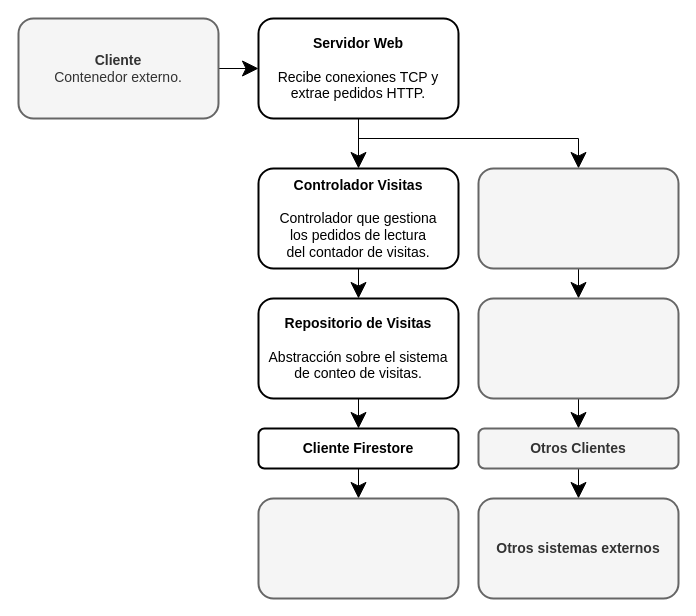
Image size: 696x616. Some labels were removed from this diagram. The shapes that lost their labels are listed below. From the top down, each one's centre as x and y in pixels, then its label:
At [578,218]: "Otros Controladores Otros controladores que puedan ser eventualmente requeridos.".
At [578,348]: "Otros Repositorios Otros repositories que puedan ser eventualmente requeridos.".
At [358,548]: "Firestore Sistema externo.".
